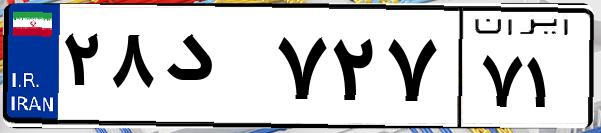1: (525, 38, 570, 115)
2: (330, 28, 385, 110), (57, 26, 110, 100)
7: (270, 28, 330, 110), (385, 28, 445, 110), (475, 38, 525, 113)
8: (110, 28, 158, 98)
د: (158, 20, 270, 120)
